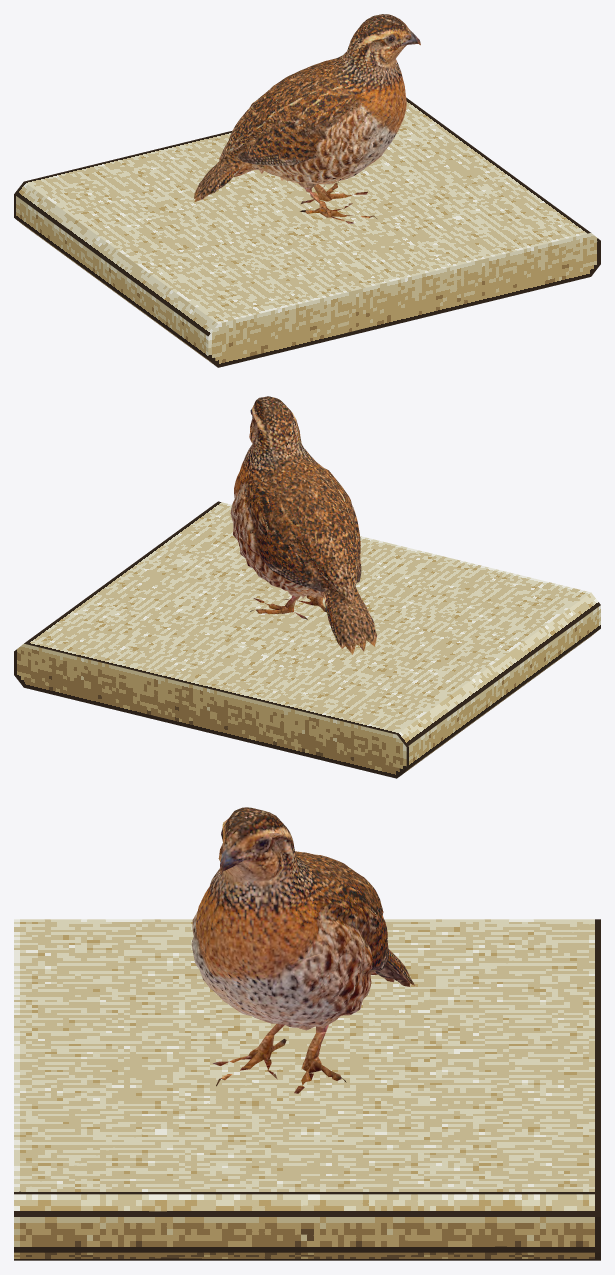
File: uzura.glb
The picture shows the model from 3 angles, top to bottom: view 1: azimuth 30°, elevation 25°; view 2: azimuth 150°, elevation 25°; view 3: azimuth 270°, elevation 25°; orthographic projection. The views are drawn at different scales.
Visible parts, largest first — view 1: base, model_bird; view 2: base, model_bird; view 3: base, model_bird.
Part boxes in pixels (bbox=[...]): base: bbox=[14, 97, 600, 367]; model_bird: bbox=[194, 14, 420, 223]; base: bbox=[14, 501, 600, 778]; model_bird: bbox=[230, 396, 376, 654]; base: bbox=[14, 919, 600, 1260]; model_bird: bbox=[191, 807, 415, 1093].
Bounding box in the file's own units: 28 × 16 × 24.
2 materials, 2 textured.
